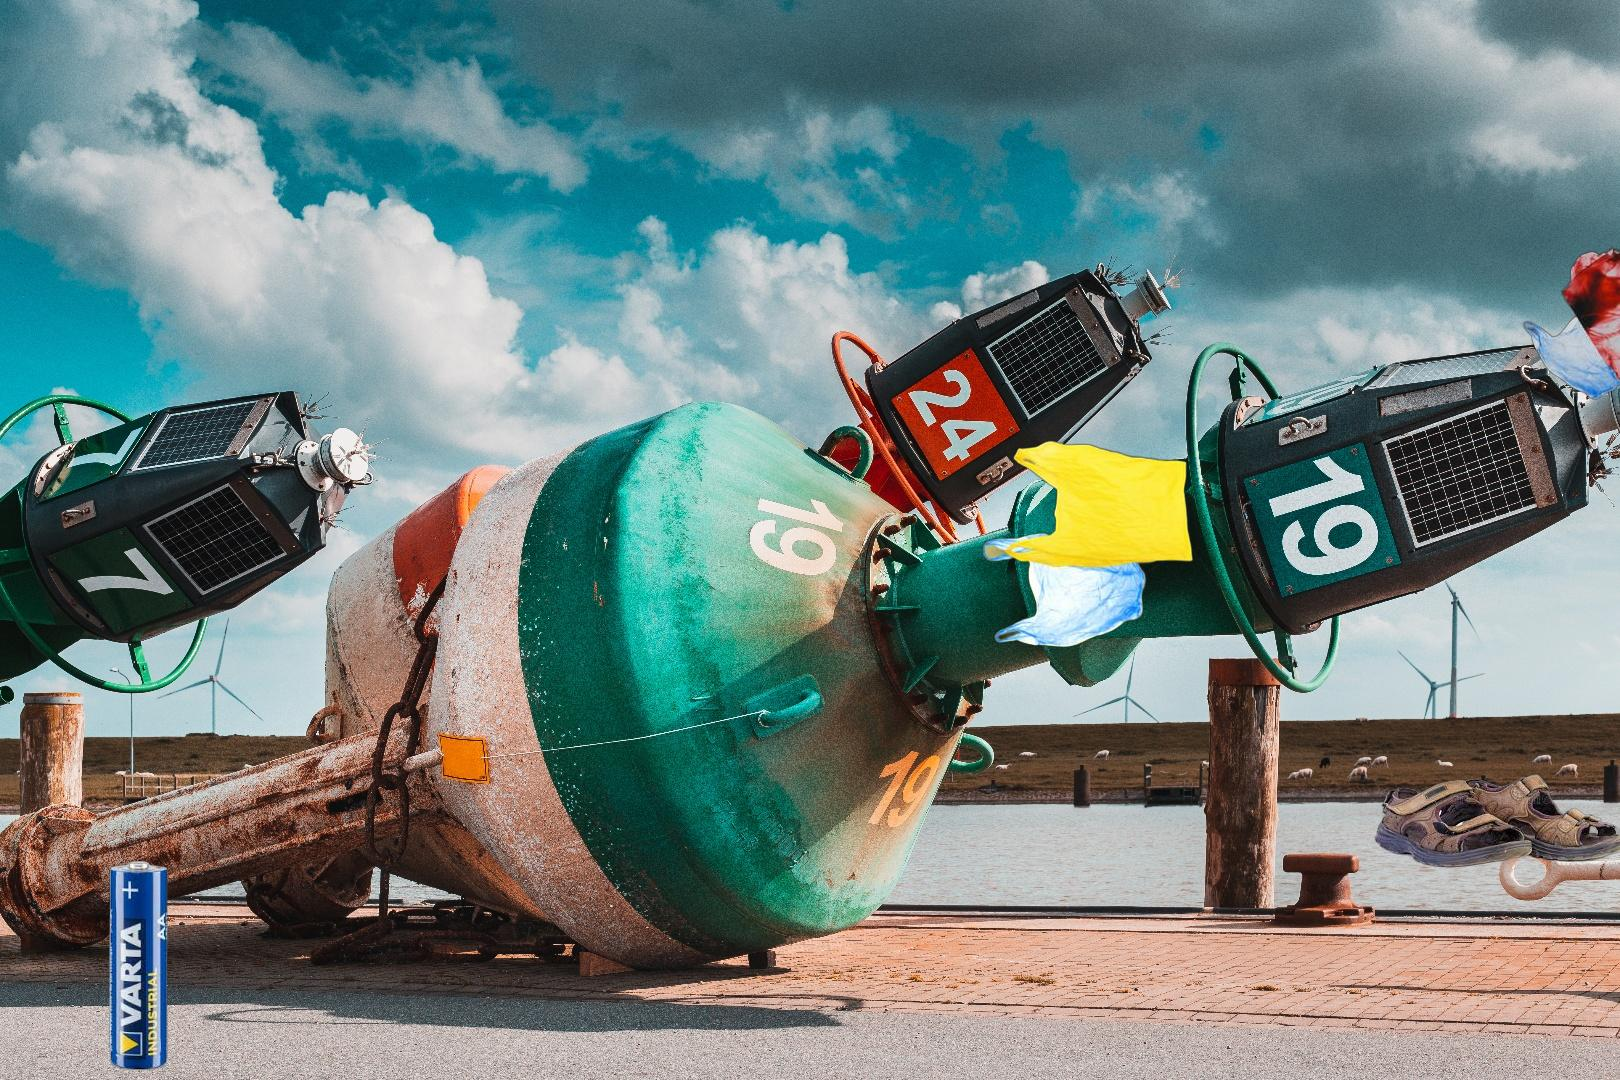battery: (106, 858, 170, 1073)
plastic-bag: (979, 439, 1195, 648), (1505, 245, 1620, 406)
shoes: (1372, 771, 1620, 870)
